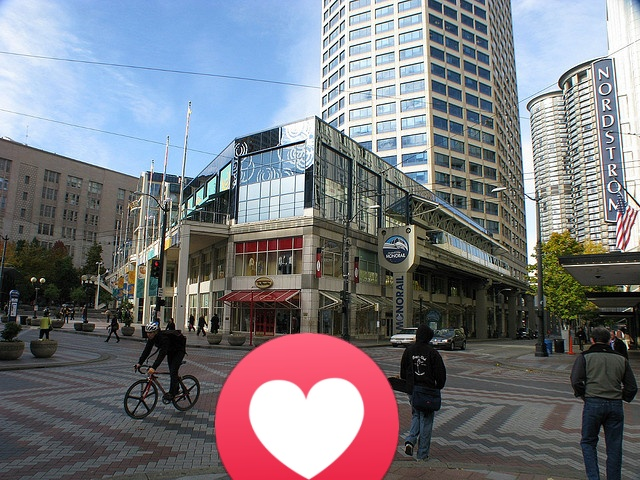love: (215, 333, 399, 480)
